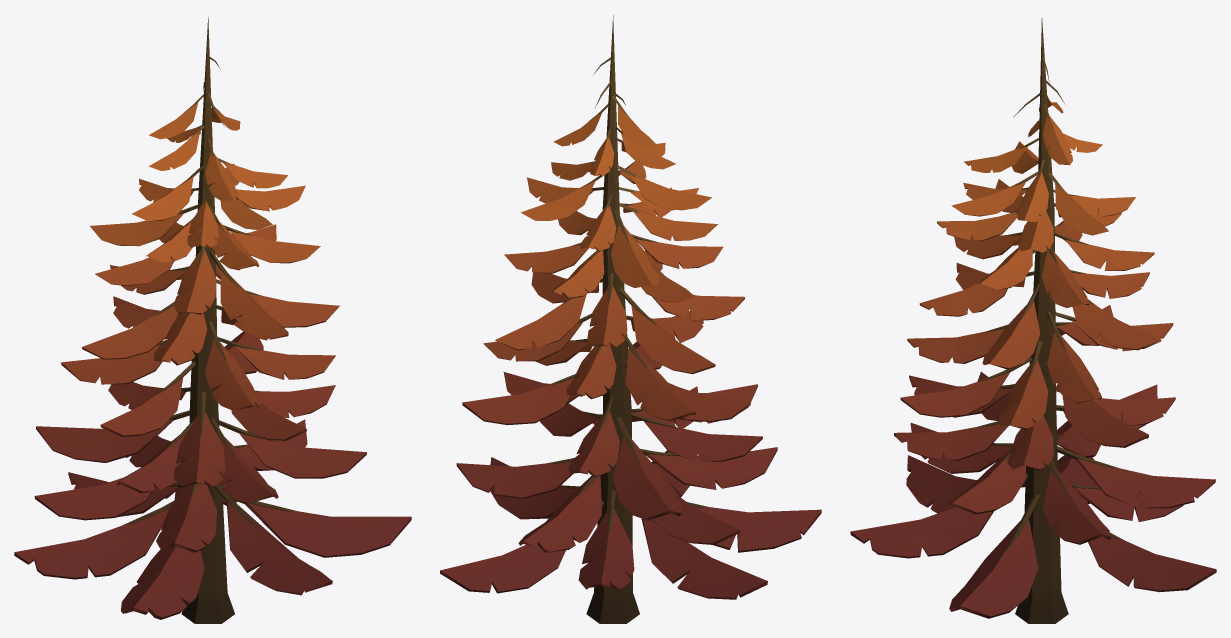
Rendered from Autumn_Tree_05.glb.
3 renders of one model, left to right at view 1: azimuth 30°, elevation 25°; view 2: azimuth 150°, elevation 25°; view 3: azimuth 270°, elevation 25°, orthographic.
Parts seen in each view (by area): view 1: Autumn_Tree_05_LOD0; view 2: Autumn_Tree_05_LOD0; view 3: Autumn_Tree_05_LOD0.
Part boxes in pixels (x1=…): Autumn_Tree_05_LOD0: x1=14, y1=17, x2=411, y2=623; Autumn_Tree_05_LOD0: x1=440, y1=15, x2=821, y2=623; Autumn_Tree_05_LOD0: x1=850, y1=18, x2=1216, y2=623.
Size of what is drawn, in the model's own units: 4.32 by 7.35 by 4.07.
1 material, 1 textured.
